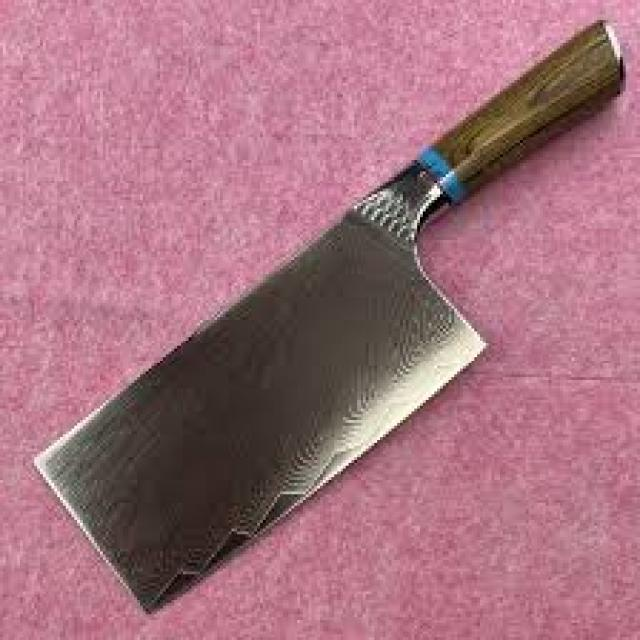Knife: (34, 23, 623, 609)
